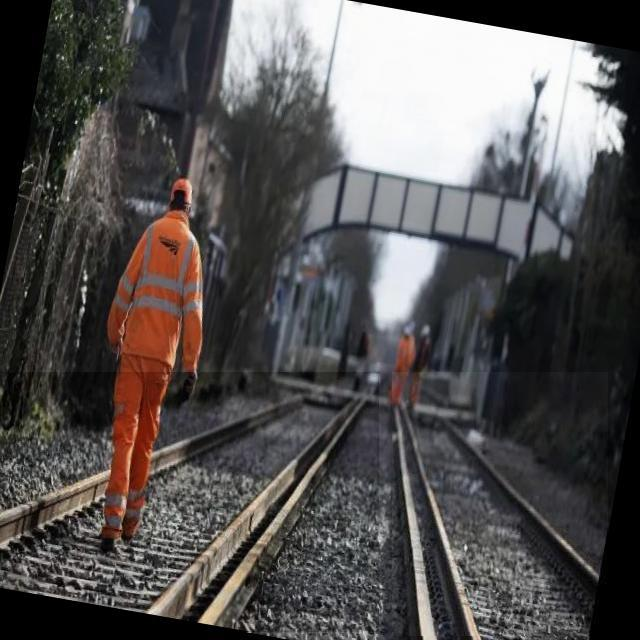rail: (1, 373, 380, 633), (394, 373, 609, 637)
